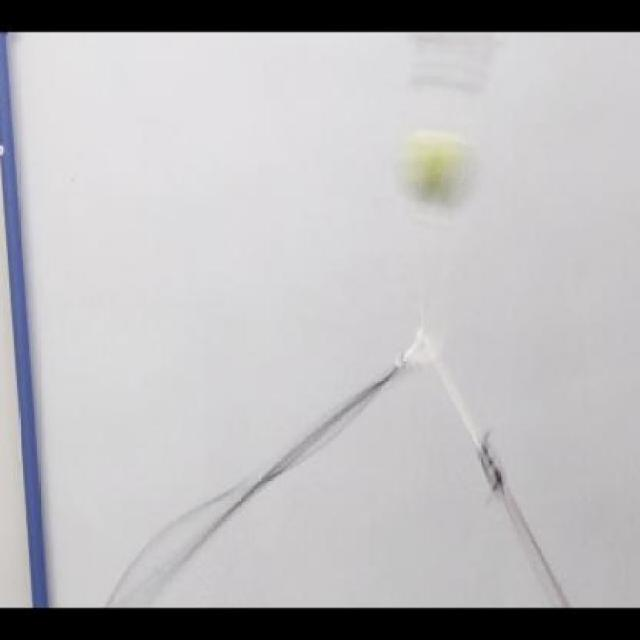baseball: (399, 132, 476, 211)
